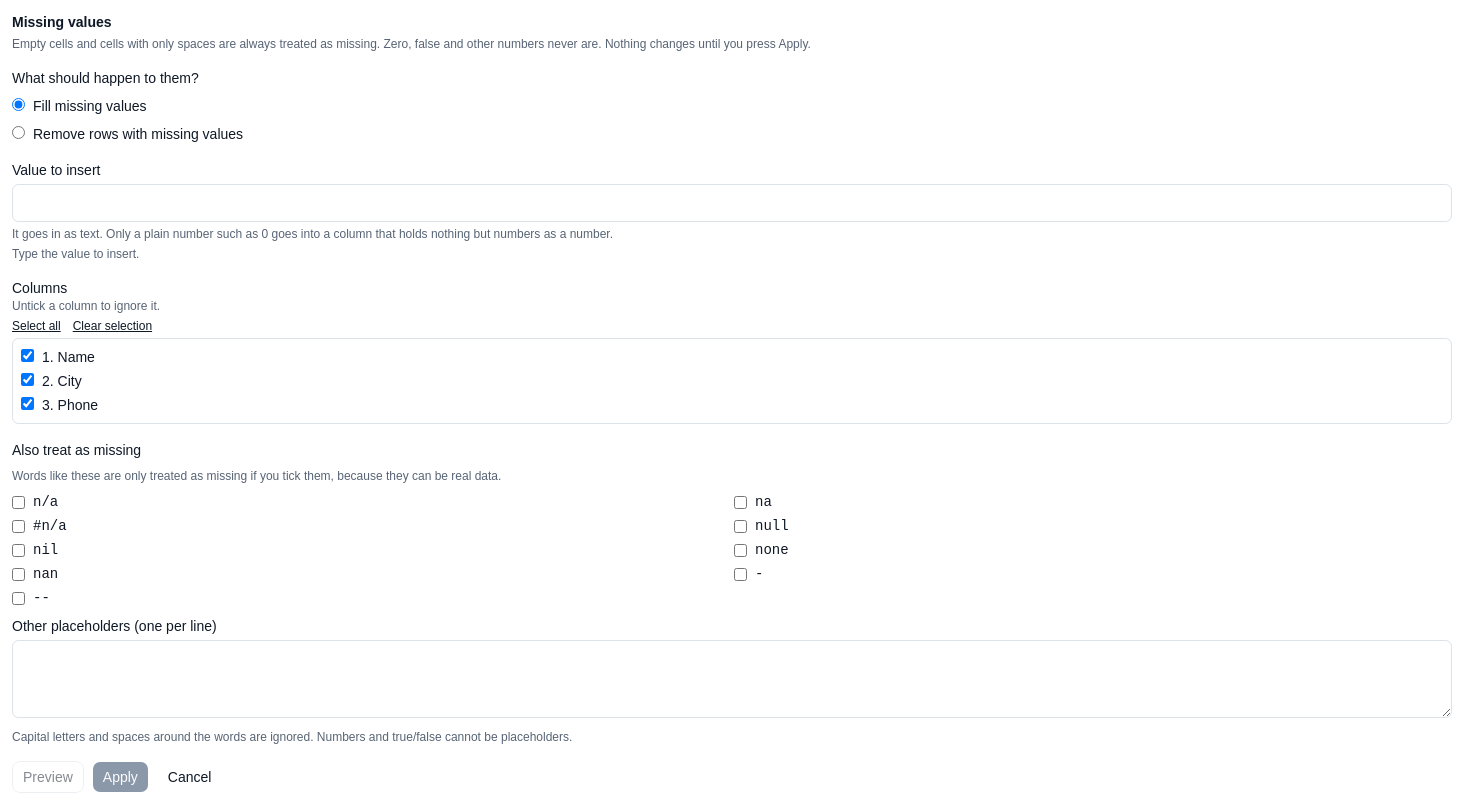
MissingPanel: apply › shows an error when applying fails, and asks for a new preview
The width and height of the screenshot is (1464, 810).
In the field labelled "Value to insert": coordinates (732, 203) left=12, top=184, right=1452, bottom=222, type "0"
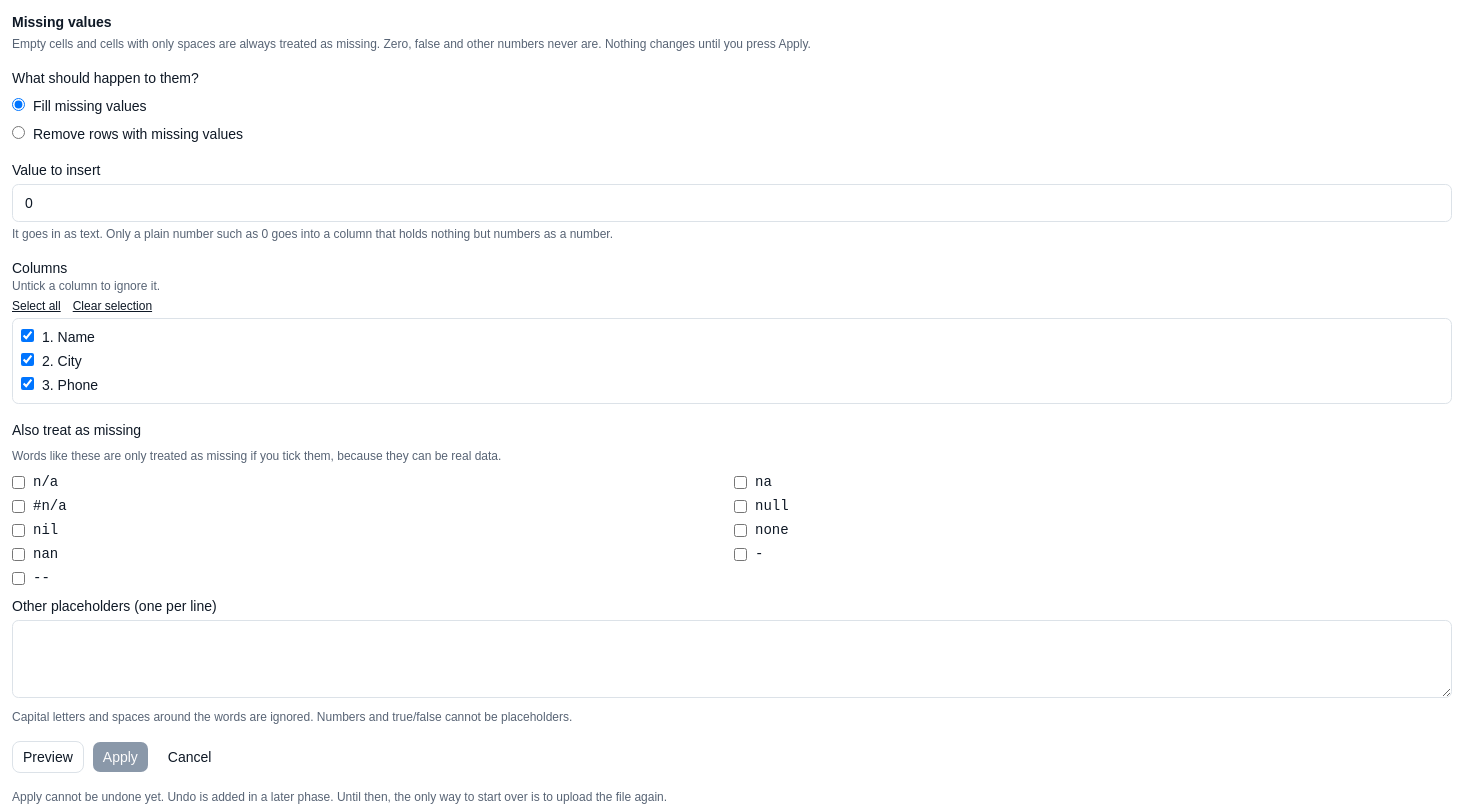
Click the button "Preview": coordinates (48, 757) left=12, top=741, right=84, bottom=773
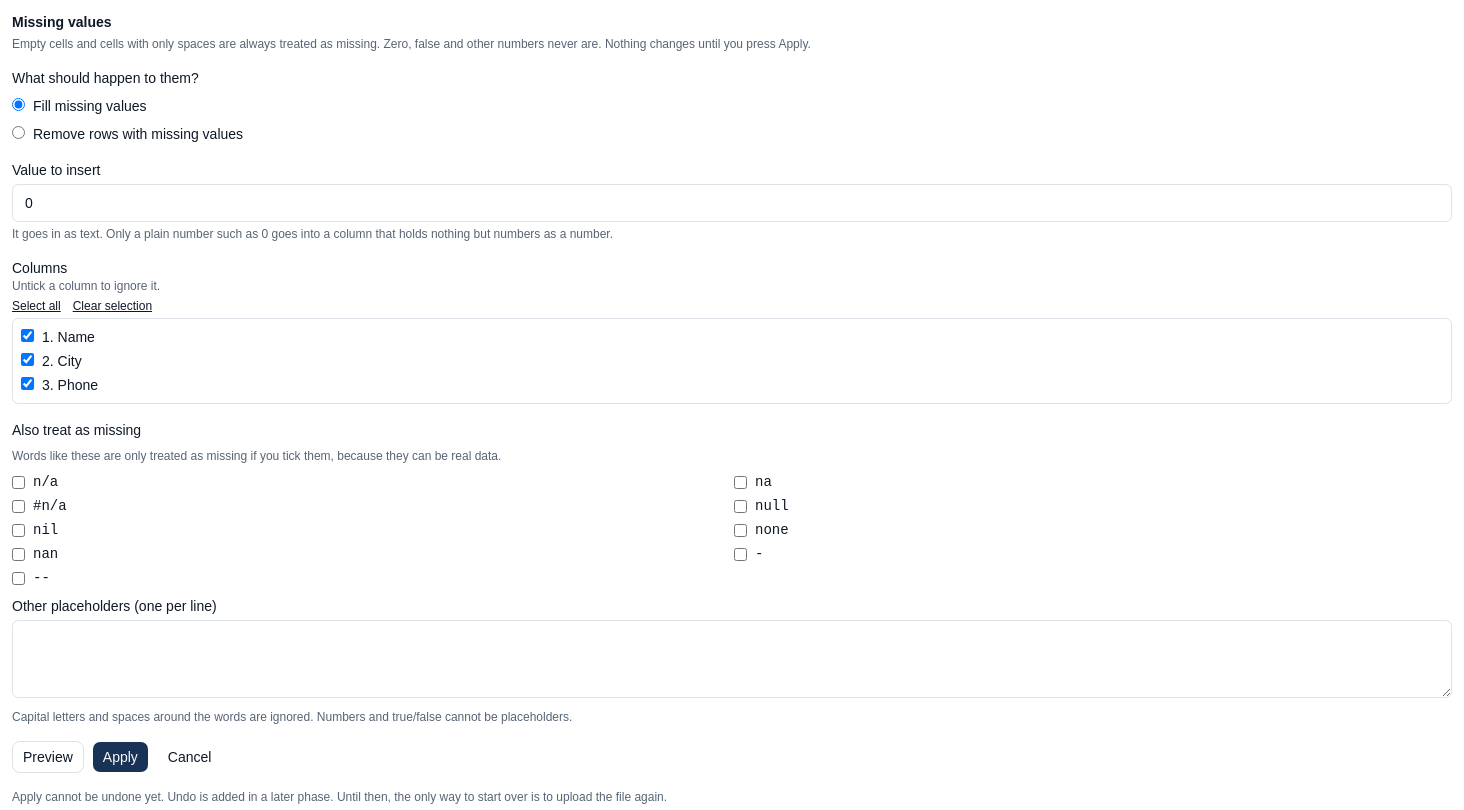
Click the button "Apply": coordinates (120, 757) left=92, top=741, right=149, bottom=773
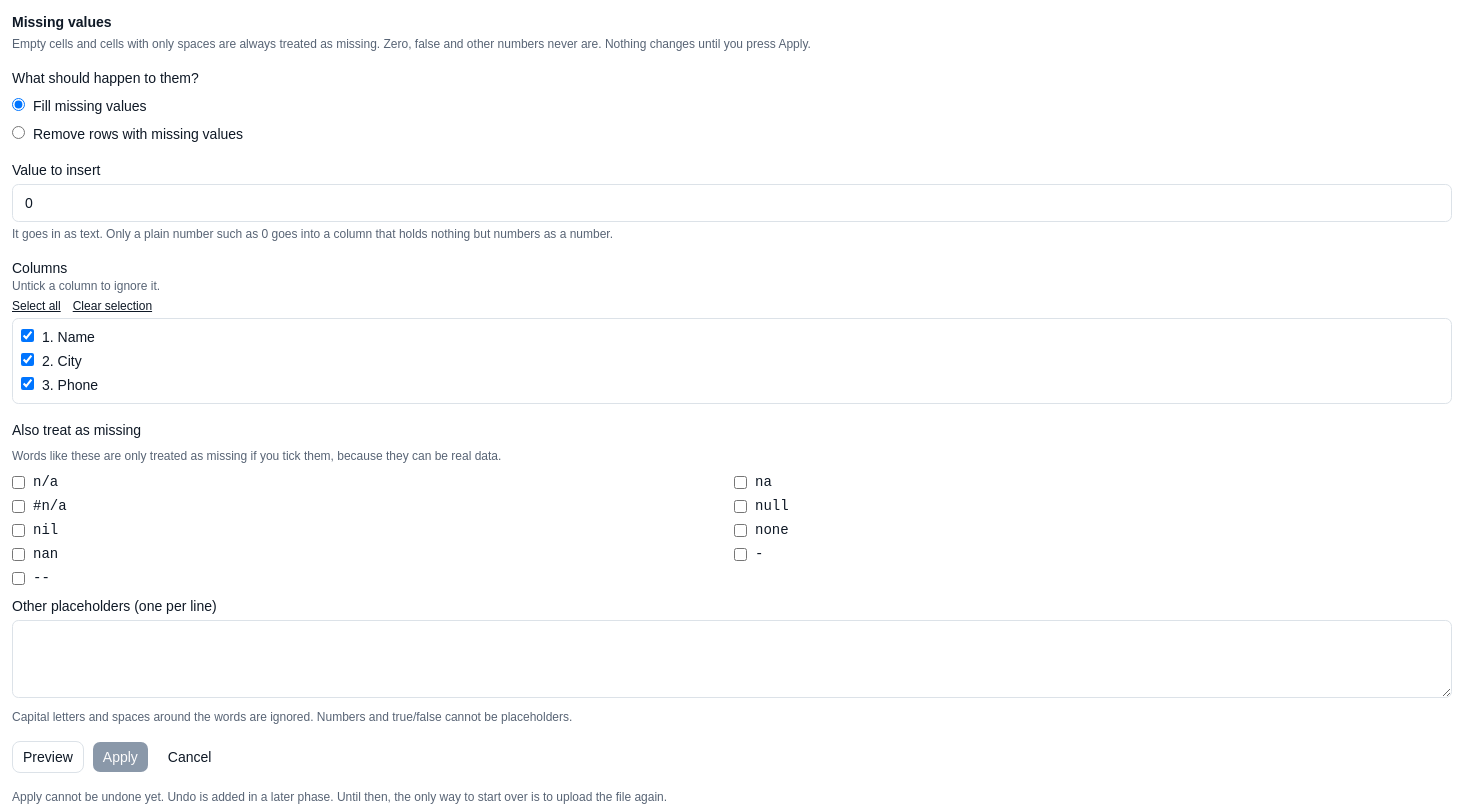
Check: the button "Apply" is disabled, box left=92, top=741, right=149, bottom=773
